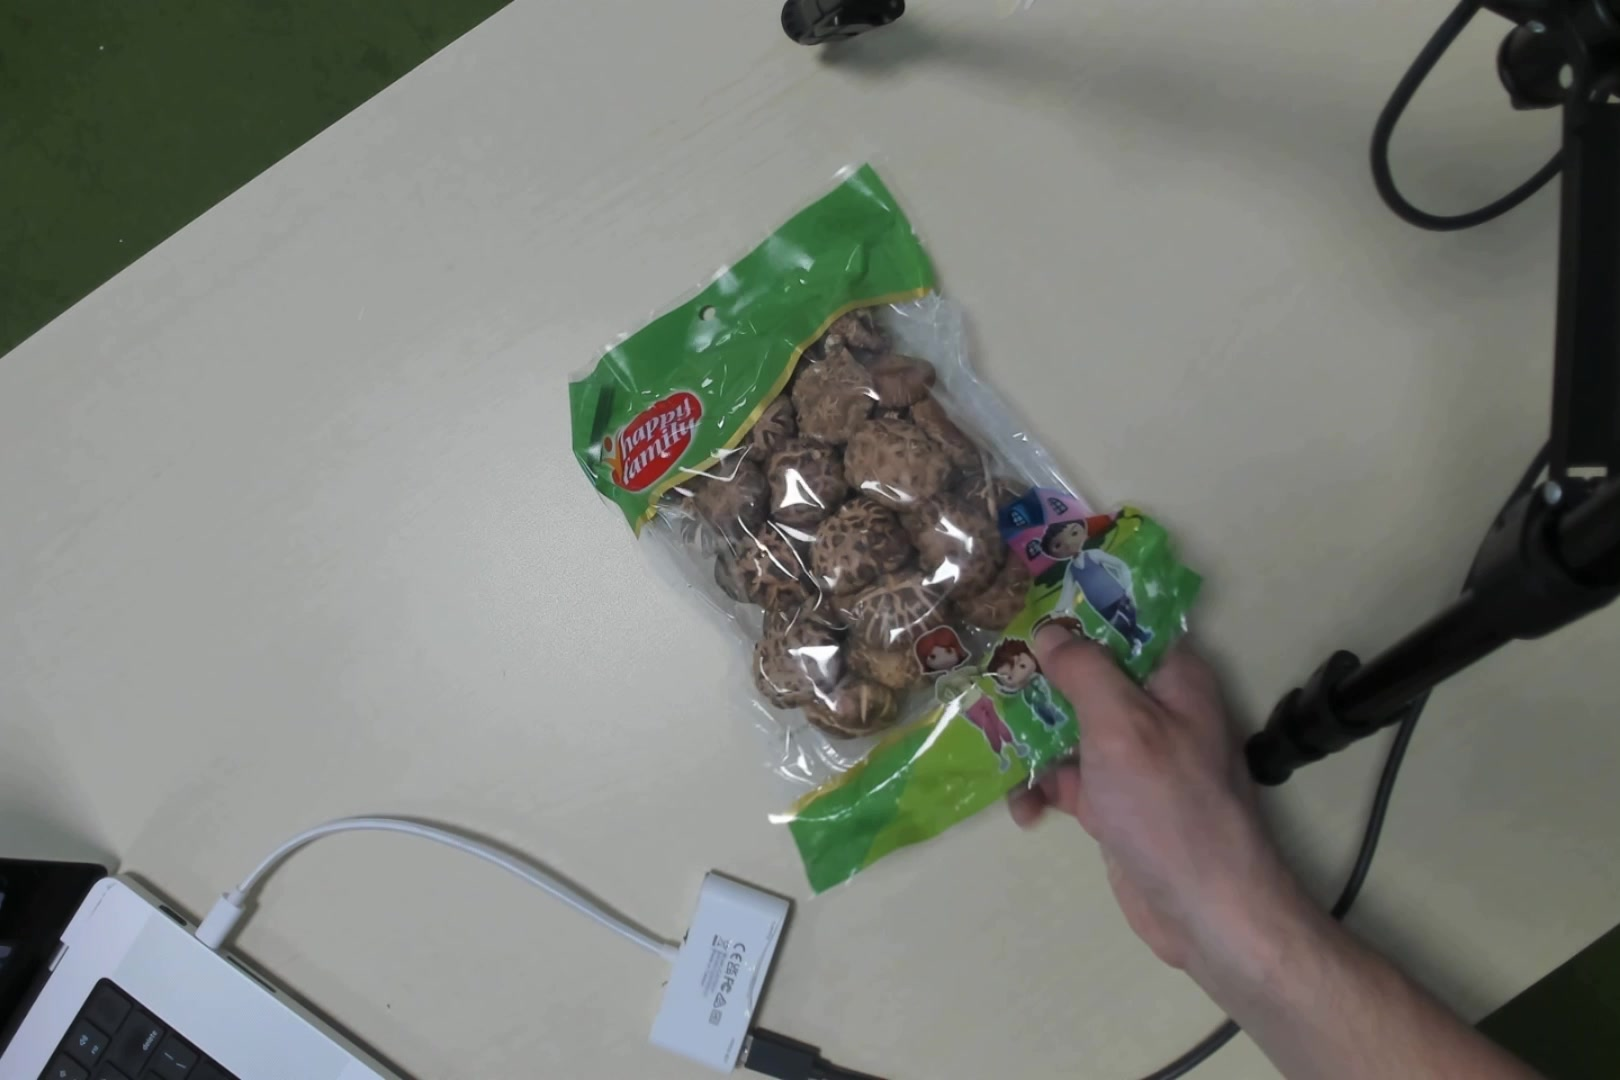OtherDriedFood_100-199g_NonHalal_NonHealthy: (570, 237, 1152, 804)
